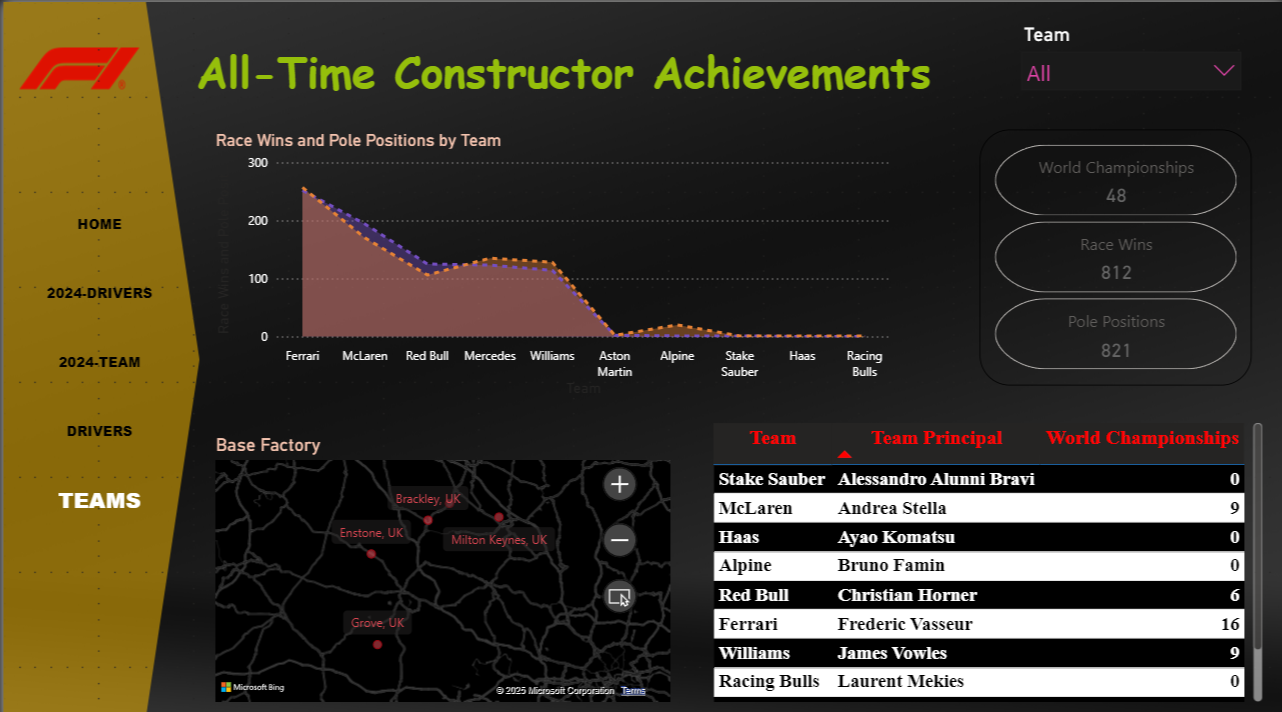

What the dashboard file says about the page in this screenshot:
{"tool":"powerbi","page":{"name":"TEAMS","canvas":[1280,720],"ordinal":4},"visuals":[{"type":"cardVisual","fields":{"Data":["f1 teams.World Championships","f1 teams.Race Wins","f1 teams.Pole Positions"]},"box":[976,128,272,256],"z":0},{"type":"map","title":"Base Factory","fields":{"Category":["f1 teams.Base"]},"box":[208,432,464,272],"z":1000},{"type":"slicer","fields":{"Values":["f1 teams.Team"]},"box":[1008,16,240,80],"z":2000},{"type":"areaChart","fields":{"Category":["f1 teams.Team"],"Y":["f1 teams.Race Wins","f1 teams.Pole Positions"]},"box":[208,128,688,272],"z":3000},{"type":"tableEx","fields":{"Values":["f1 teams.Team","f1 teams.Team Principal","f1 teams.World Championships"]},"box":[704,416,560,288],"z":4000},{"type":"pageNavigator","box":[16,192,160,336],"z":5000},{"type":"textbox","box":[176,16,768,128],"z":6000}]}

Visuals, with their boxes in screenshot pixels (x1, y1, x2, y2), scaled from the page's 1280x720 canvas onto the 1282x712 screenshot:
cardVisual - f1 teams.World Championships x f1 teams.Race Wins: [978,127,1250,380]
"Base Factory" map: [208,427,673,696]
slicer - f1 teams.Team: [1010,16,1250,95]
areaChart - f1 teams.Team x f1 teams.Race Wins: [208,127,897,396]
tableEx - f1 teams.Team x f1 teams.Team Principal: [705,411,1266,696]
pageNavigator: [16,190,176,522]
textbox: [176,16,945,142]
